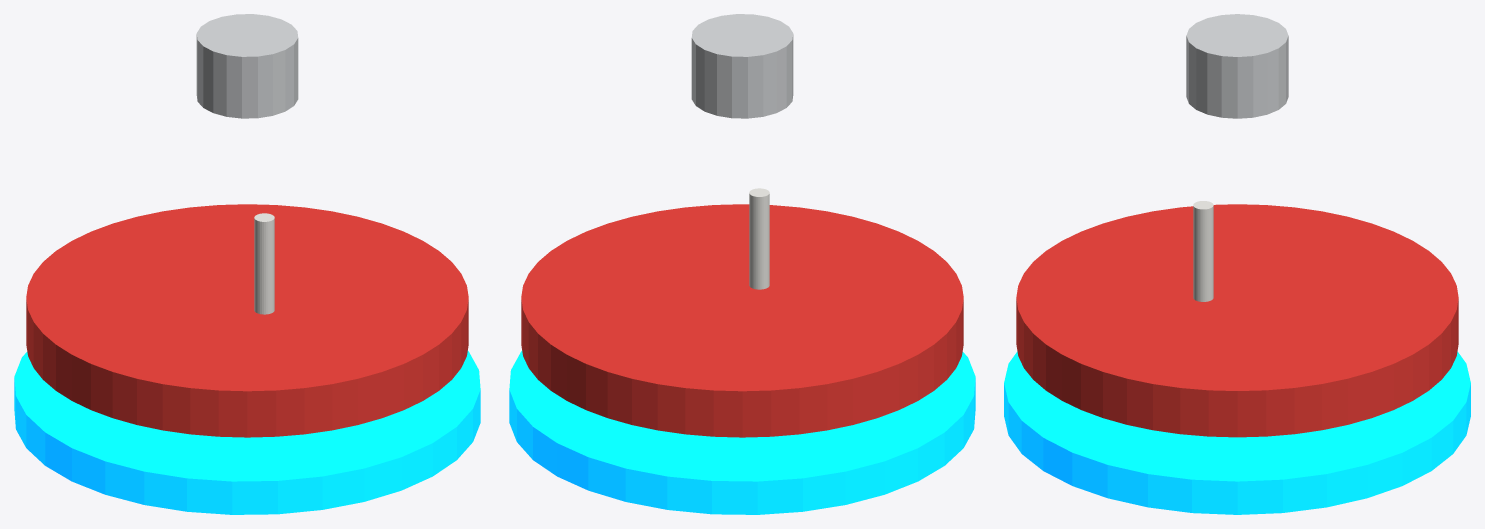
Rendered from sports_stopwatch.glb.
3 views of the same model, side by side, from view 1: azimuth 30°, elevation 25°; view 2: azimuth 150°, elevation 25°; view 3: azimuth 270°, elevation 25° (orthographic).
Parts seen in each view (by area): view 1: 04_16_Popular_Sports_Stopwatch_part_01, 04_16_Popular_Sports_Stopwatch_ROOT_base, 04_16_Popular_Sports_Stopwatch_part_02, 04_16_Popular_Sports_Stopwatch_part_04; view 2: 04_16_Popular_Sports_Stopwatch_part_01, 04_16_Popular_Sports_Stopwatch_ROOT_base, 04_16_Popular_Sports_Stopwatch_part_02, 04_16_Popular_Sports_Stopwatch_part_04; view 3: 04_16_Popular_Sports_Stopwatch_part_01, 04_16_Popular_Sports_Stopwatch_ROOT_base, 04_16_Popular_Sports_Stopwatch_part_02, 04_16_Popular_Sports_Stopwatch_part_04.
Part boxes in pixels (x1,y1,x2,y2): 04_16_Popular_Sports_Stopwatch_part_01: (26,204,468,437); 04_16_Popular_Sports_Stopwatch_ROOT_base: (14,350,480,514); 04_16_Popular_Sports_Stopwatch_part_02: (196,14,298,118); 04_16_Popular_Sports_Stopwatch_part_04: (254,213,274,314); 04_16_Popular_Sports_Stopwatch_part_01: (521,204,963,437); 04_16_Popular_Sports_Stopwatch_ROOT_base: (509,350,975,514); 04_16_Popular_Sports_Stopwatch_part_02: (691,14,793,118); 04_16_Popular_Sports_Stopwatch_part_04: (749,188,769,289); 04_16_Popular_Sports_Stopwatch_part_01: (1016,204,1458,437); 04_16_Popular_Sports_Stopwatch_ROOT_base: (1004,351,1470,514); 04_16_Popular_Sports_Stopwatch_part_02: (1186,14,1288,118); 04_16_Popular_Sports_Stopwatch_part_04: (1193,201,1213,301).
Bounding box in the file's own units: 0.76 × 0.6838 × 0.76.
